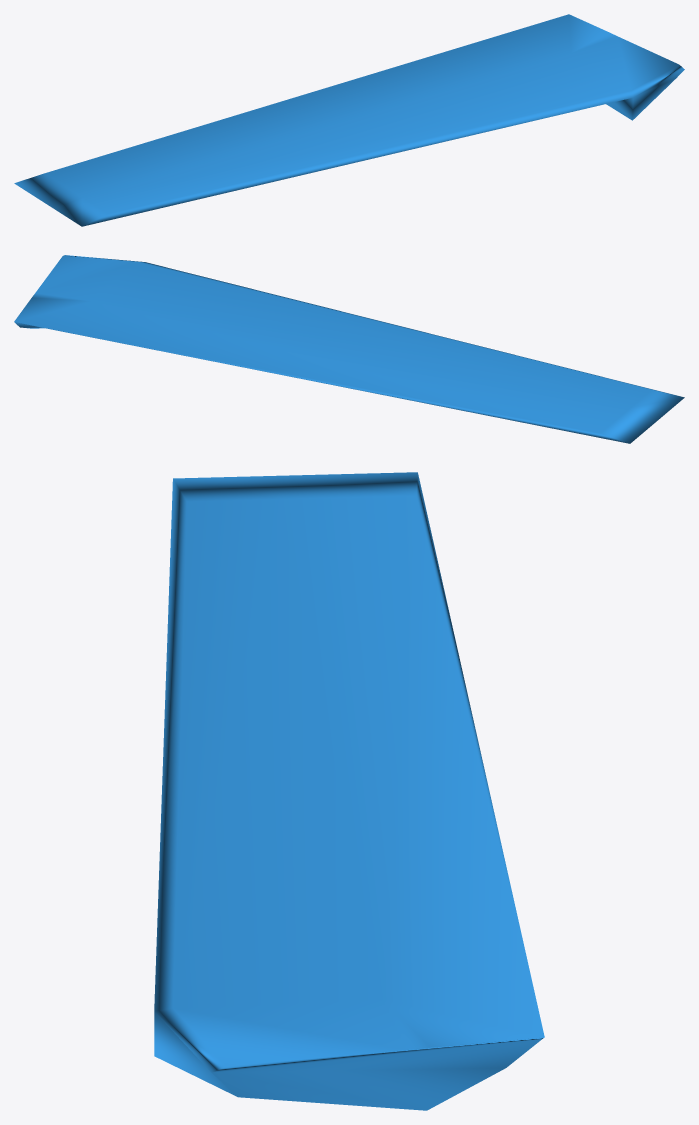
Rendered from lago.fbx.
3 renders of one model, top to bottom at view 1: azimuth 30°, elevation 25°; view 2: azimuth 150°, elevation 25°; view 3: azimuth 270°, elevation 25°, orthographic. The views are drawn at different scales.
Visible parts, largest first — view 1: rio; view 2: rio; view 3: rio.
Part boxes in pixels (bbox=[...]): rio: bbox=[14, 14, 684, 226]; rio: bbox=[14, 255, 684, 443]; rio: bbox=[154, 472, 544, 1110].
Bounding box in the file's own units: 5063 × 248 × 1389.
